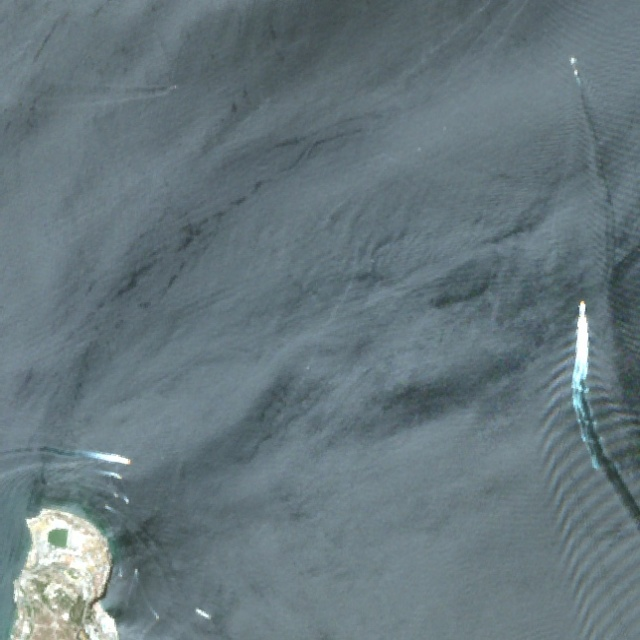wake: (520, 290, 636, 531)
